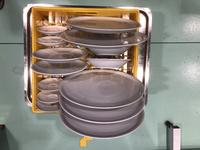Dish: (59, 70, 146, 109), (59, 107, 145, 139), (59, 94, 146, 123), (60, 29, 148, 48), (66, 16, 141, 34), (31, 60, 88, 76), (32, 48, 89, 63), (85, 58, 131, 69), (86, 46, 131, 56), (36, 78, 62, 92), (36, 36, 66, 46), (37, 91, 60, 104), (36, 100, 60, 112), (37, 25, 67, 34)
